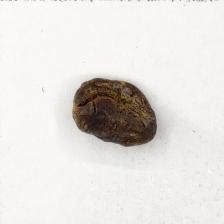NG: (73, 78, 156, 146)
